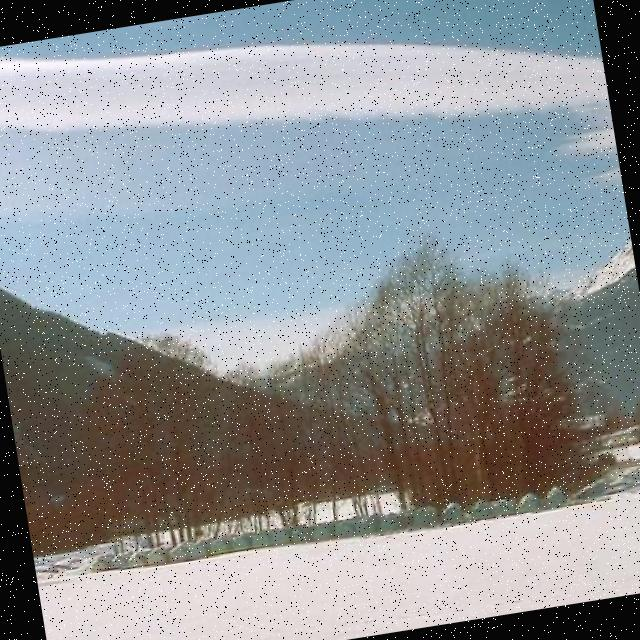Ac: (1, 1, 616, 237)
